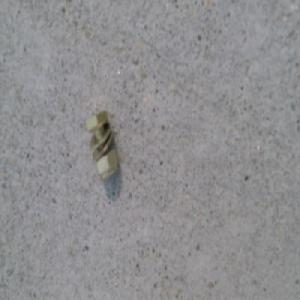BoltNutSet: (86, 109, 119, 180)
